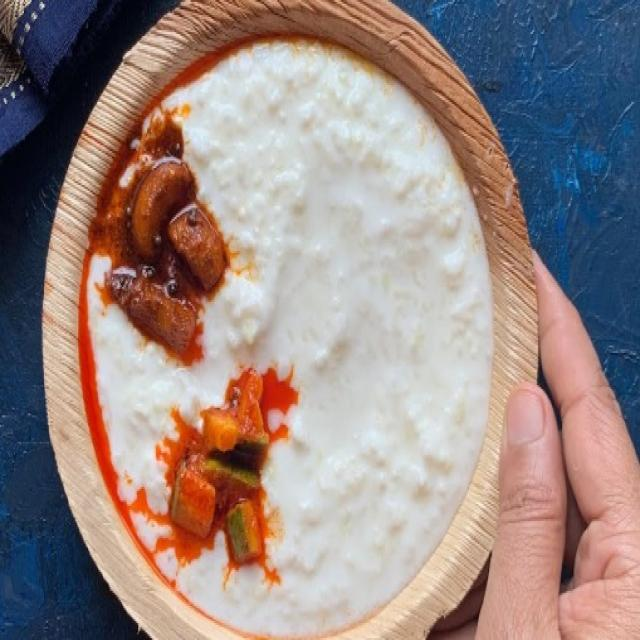CURD RICE: (78, 39, 492, 638)
PICKLE: (93, 96, 297, 571)
